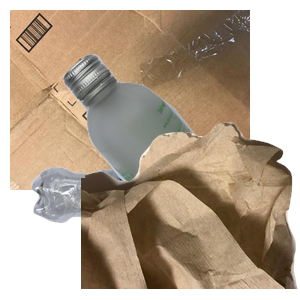cardboard: (10, 10, 250, 190)
glass: (60, 51, 300, 231)
plastic: (29, 165, 227, 300)
trash: (81, 120, 300, 300)
